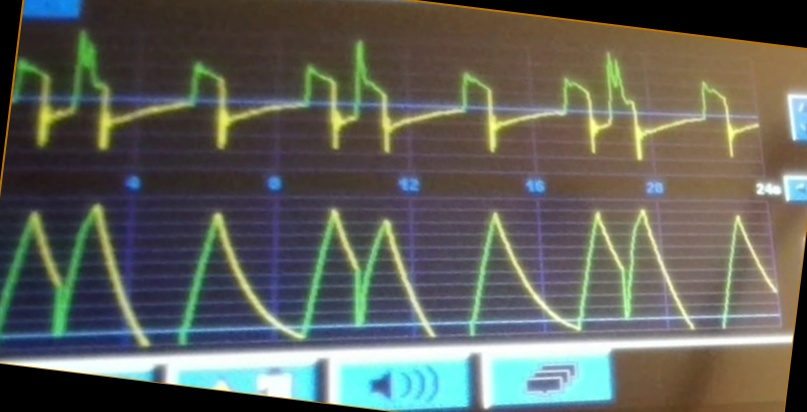Double_Triggering Flow: (17, 27, 643, 162)
Double_Triggering Volume: (4, 200, 693, 339)
